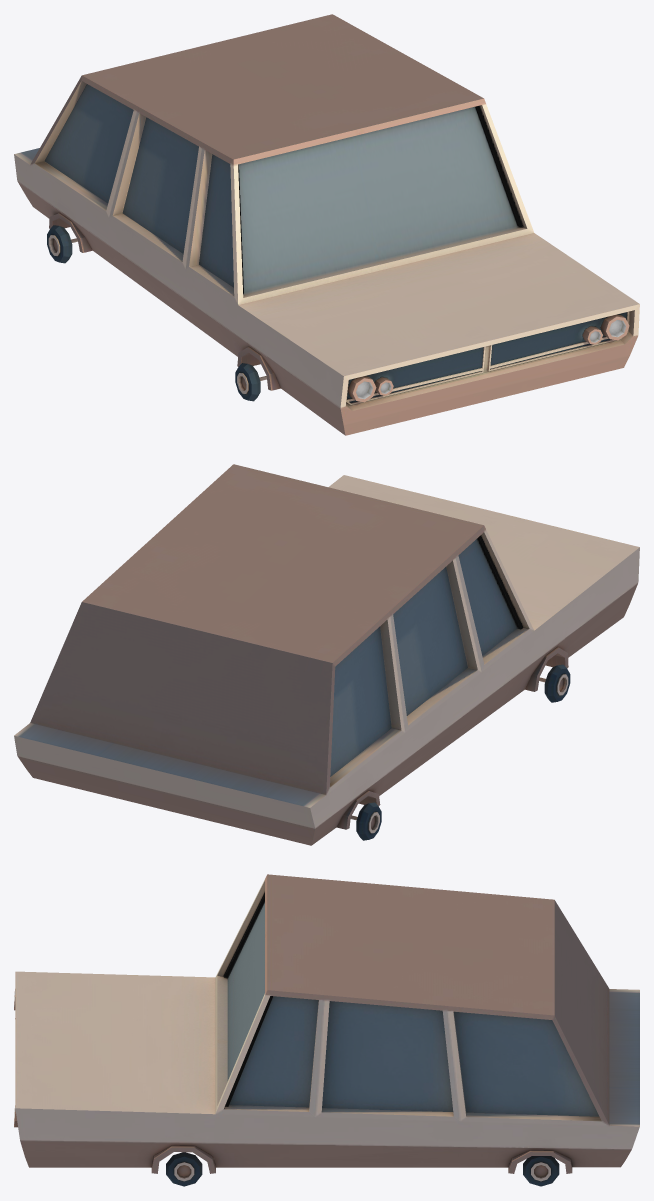
3 renders of one model, top to bottom at view 1: azimuth 30°, elevation 25°; view 2: azimuth 150°, elevation 25°; view 3: azimuth 270°, elevation 25°, orthographic. The views are drawn at different scales.
Parts seen in each view (by area): view 1: Auto_1_Auto.1_0; view 2: Auto_1_Auto.1_0; view 3: Auto_1_Auto.1_0.
Part boxes in pixels (x1=…): Auto_1_Auto.1_0: x1=14, y1=14, x2=639, y2=435; Auto_1_Auto.1_0: x1=14, y1=464, x2=639, y2=845; Auto_1_Auto.1_0: x1=14, y1=874, x2=639, y2=1186.
Size of the model in its own units: 206 by 127 by 378.
1 material, 1 textured.
